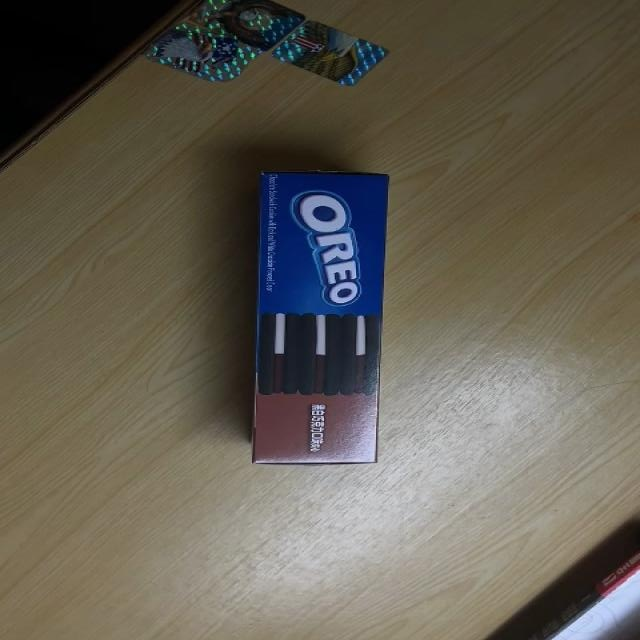Oreo: (250, 168, 399, 464)
